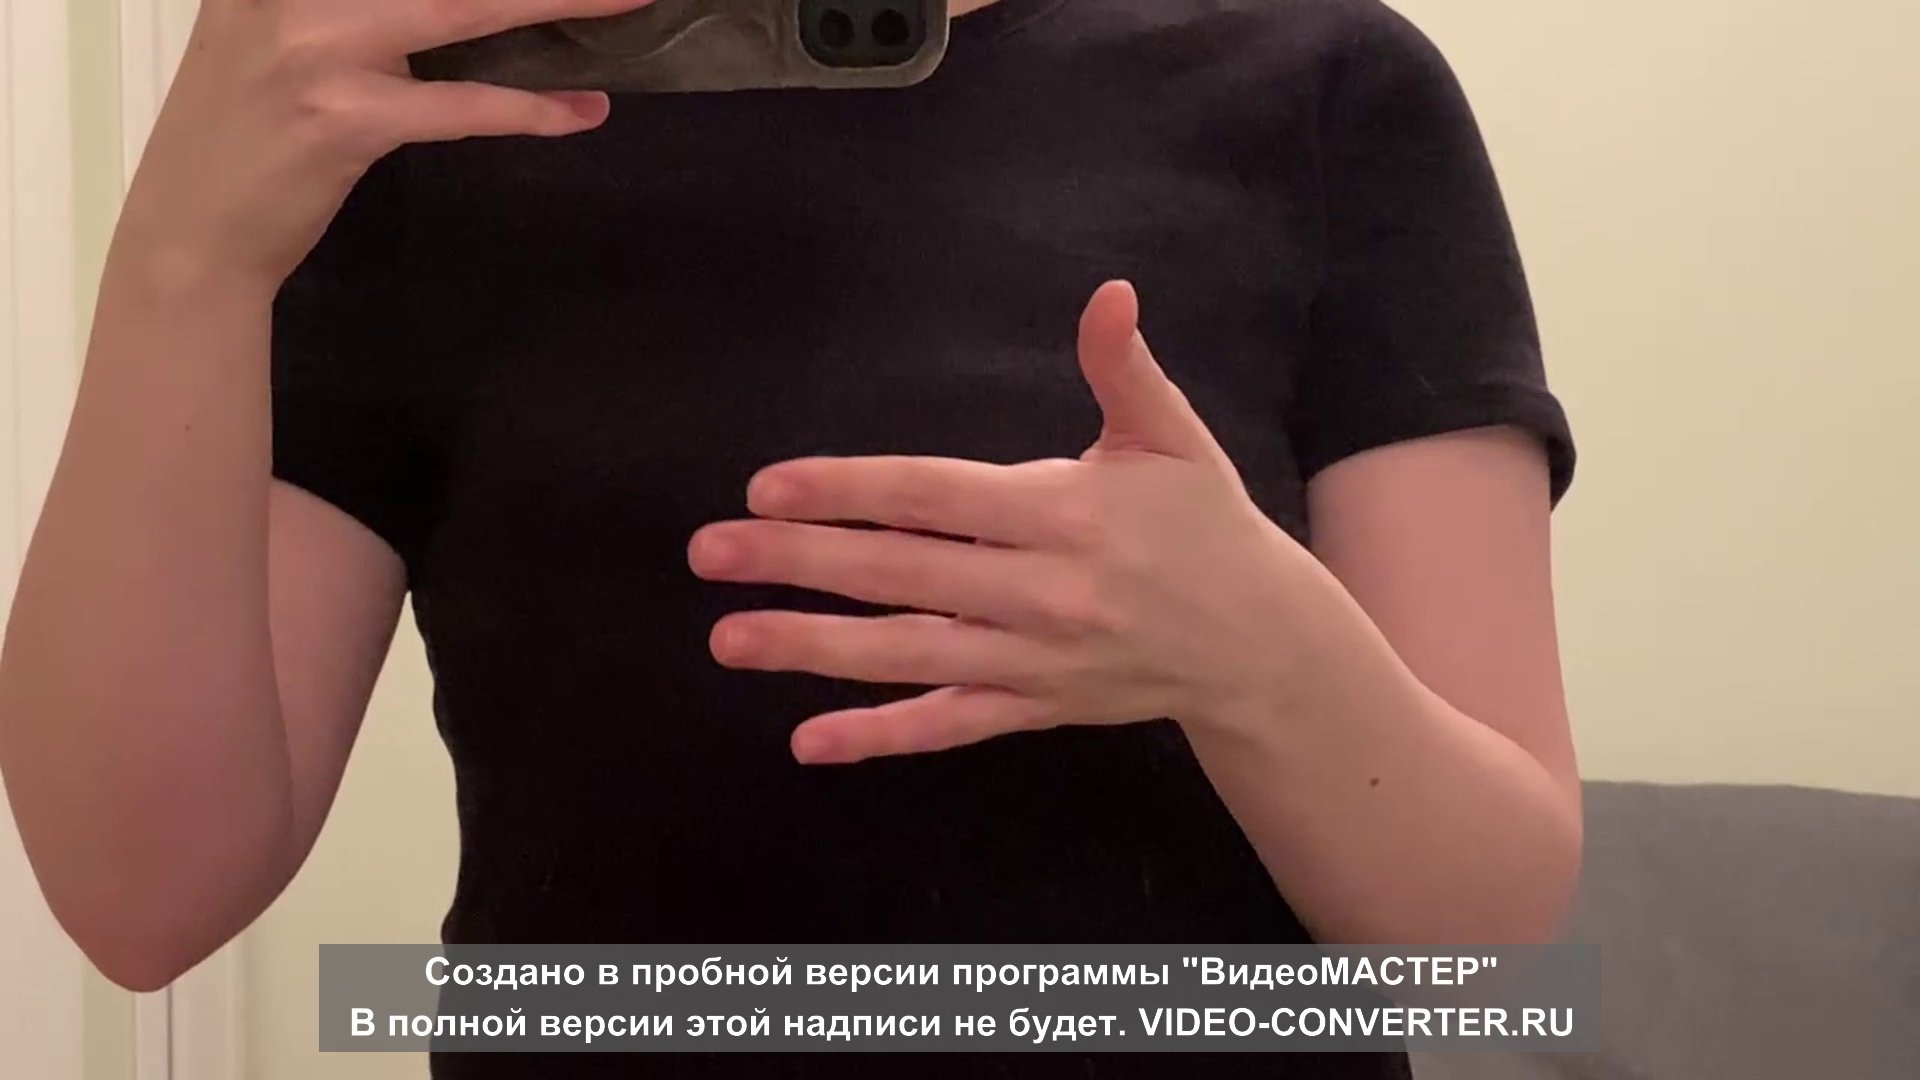Кисть: (687, 280, 1238, 766)
